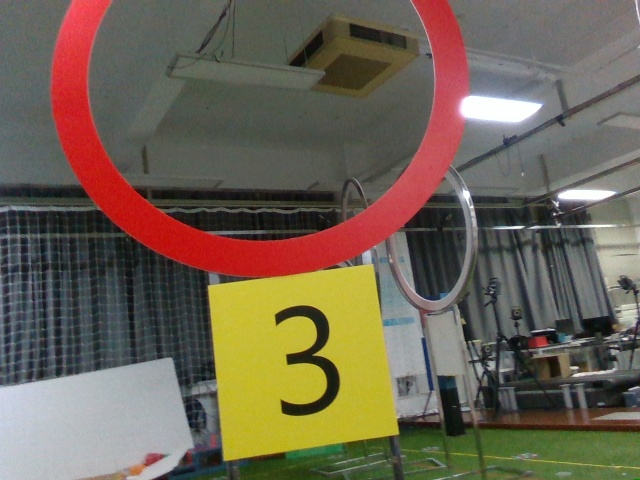target: (223, 287, 387, 441)
